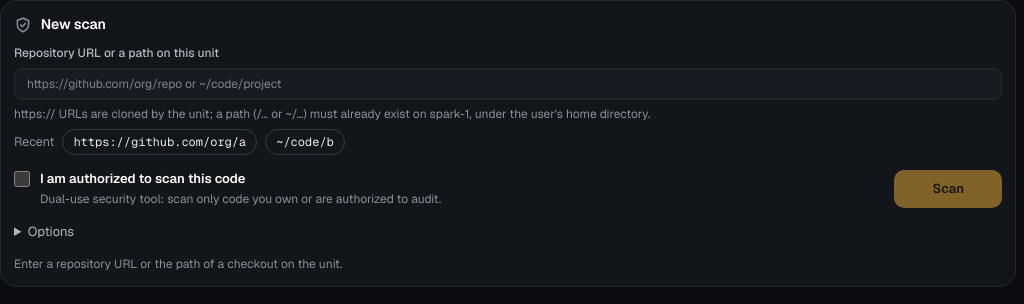
ScanForm › shows recent sources as chips that fill the input
The width and height of the screenshot is (1024, 304).
Click the button with class "sec-recent__chip" showing "~/code/b": coordinates (305, 142) [265,129,345,155]
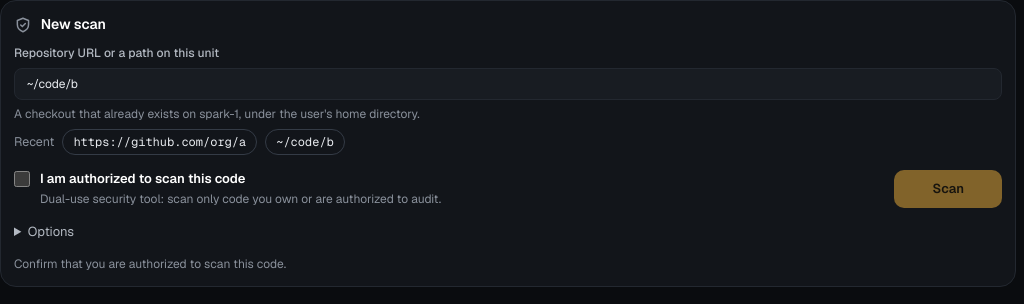
Expected: the field with class "sec-mono" holds "~/code/b", [14,68,1002,100]
Click the checkbox: coordinates (22, 179) [14,171,30,187]
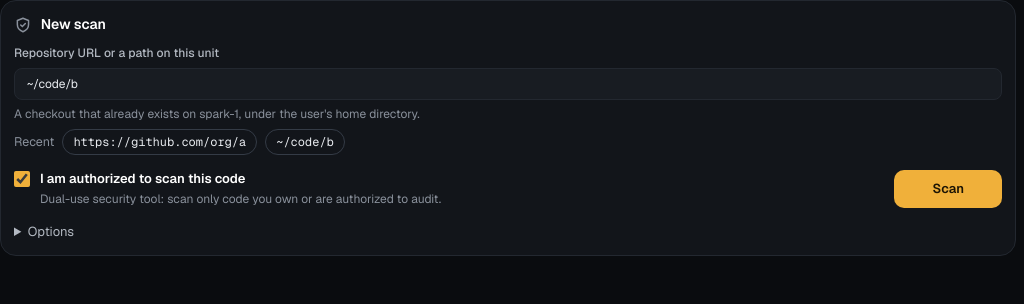
Expected: the submit button is enabled, [894,170,1002,208]
